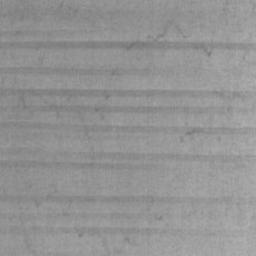Waist folding: (0, 2, 256, 145), (31, 188, 256, 256), (0, 147, 146, 173), (161, 149, 256, 180), (0, 208, 40, 235), (220, 0, 246, 32), (0, 190, 22, 203), (248, 216, 256, 246), (2, 122, 24, 128)
